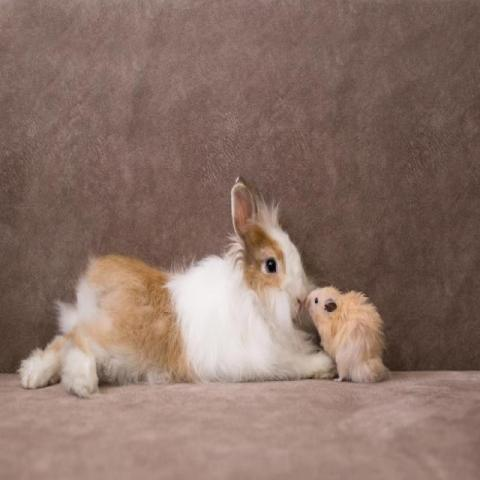small_animal: (17, 174, 338, 398), (306, 282, 393, 391)
